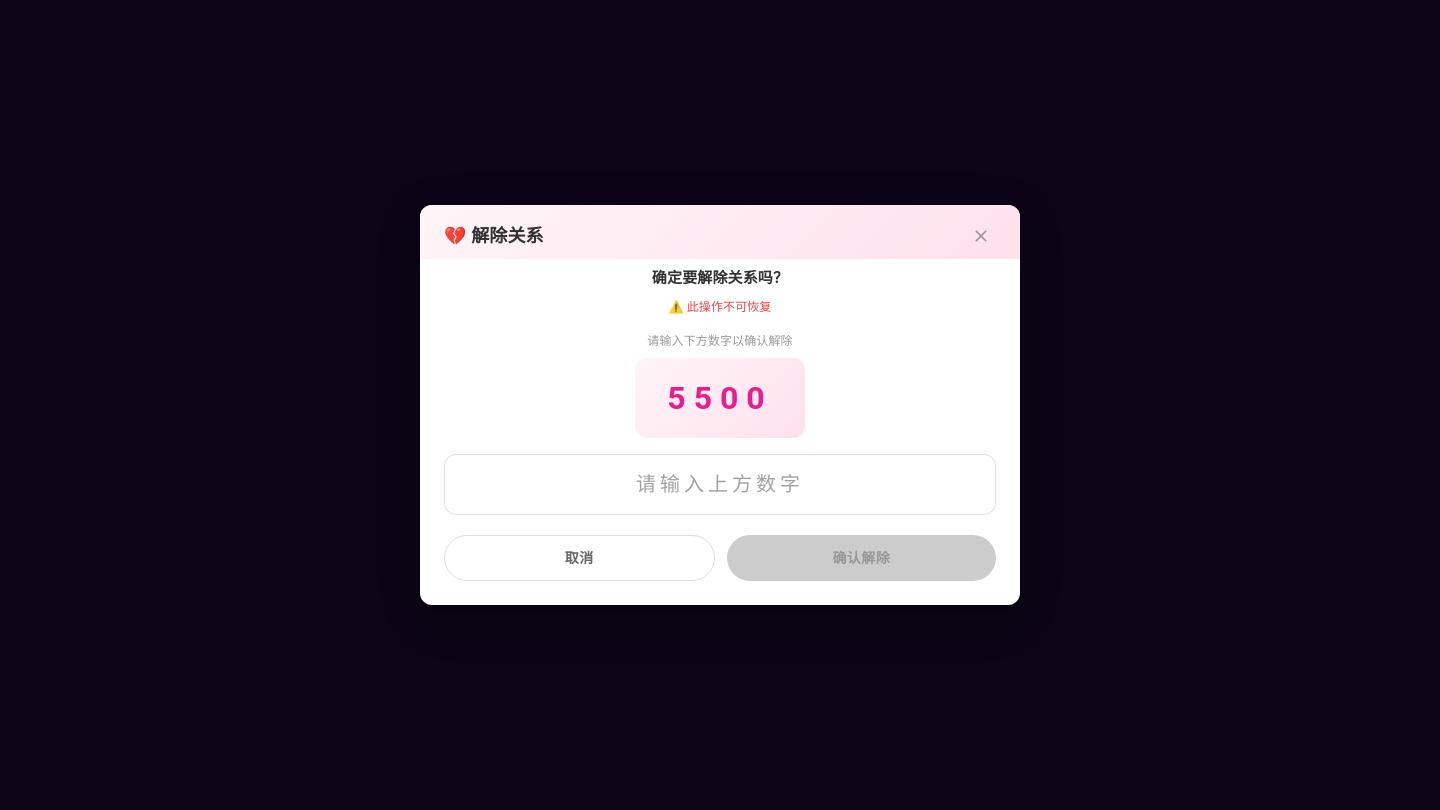
Test: ConfirmUnbindModal › input filtering › should filter non-numeric characters
The image size is (1440, 810).
Type "abc1234" into the field with placeholder "请输入上方数字".
click(720, 484); type("abc1234")  # box [444, 454, 996, 515]
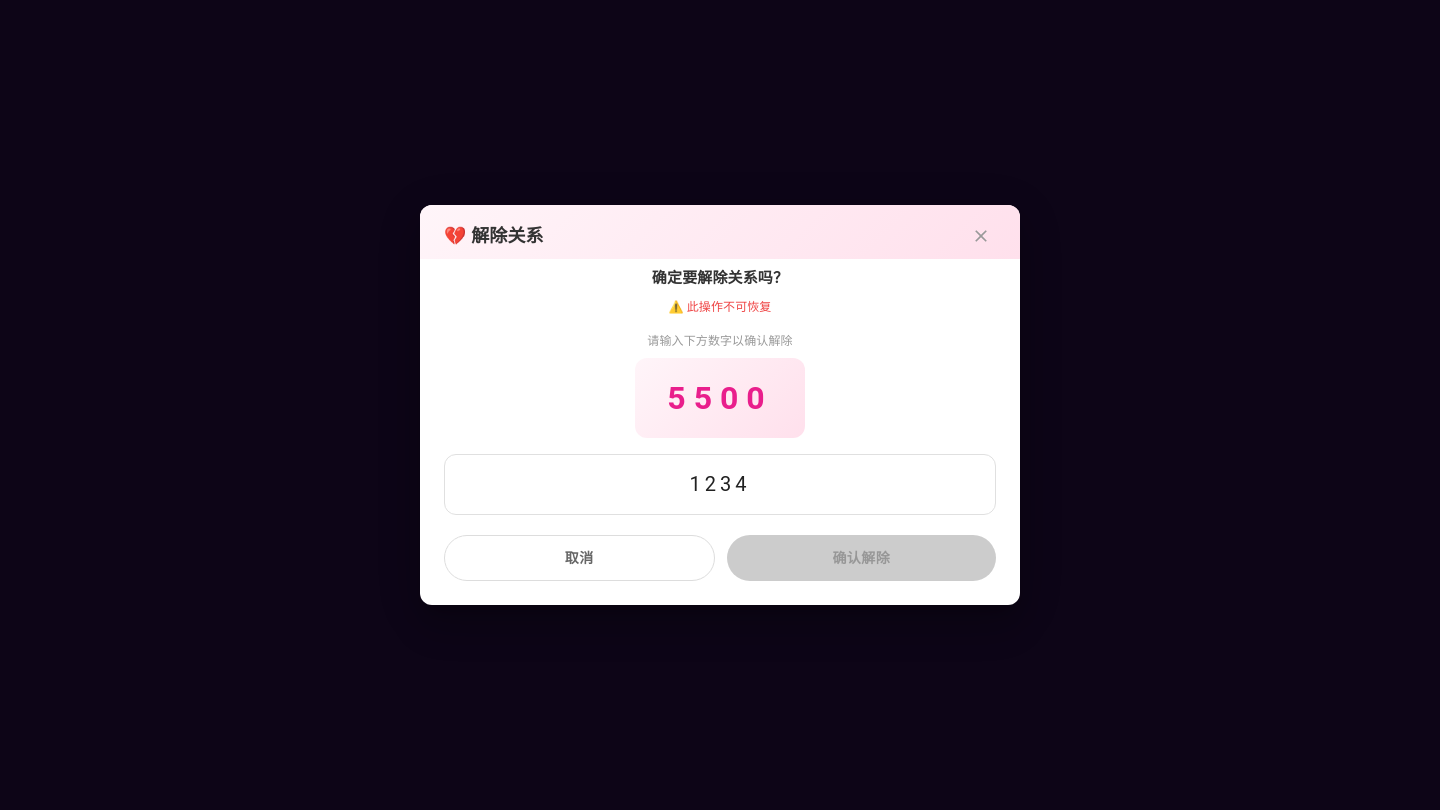
Check: the field with placeholder "请输入上方数字" holds "1234", box [444, 454, 996, 515]
